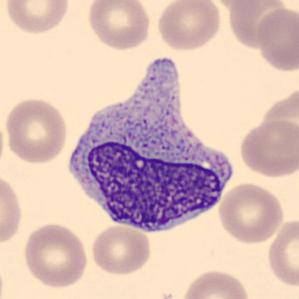Monocyte: (59, 50, 238, 237)
RBC: (20, 221, 90, 289), (2, 96, 70, 164), (216, 180, 286, 246), (237, 118, 298, 179), (154, 0, 224, 52), (85, 0, 152, 52), (89, 222, 153, 276), (253, 5, 298, 73), (260, 85, 299, 151), (4, 0, 72, 36), (265, 216, 298, 288), (178, 267, 252, 299), (0, 171, 25, 249), (211, 0, 276, 12)
